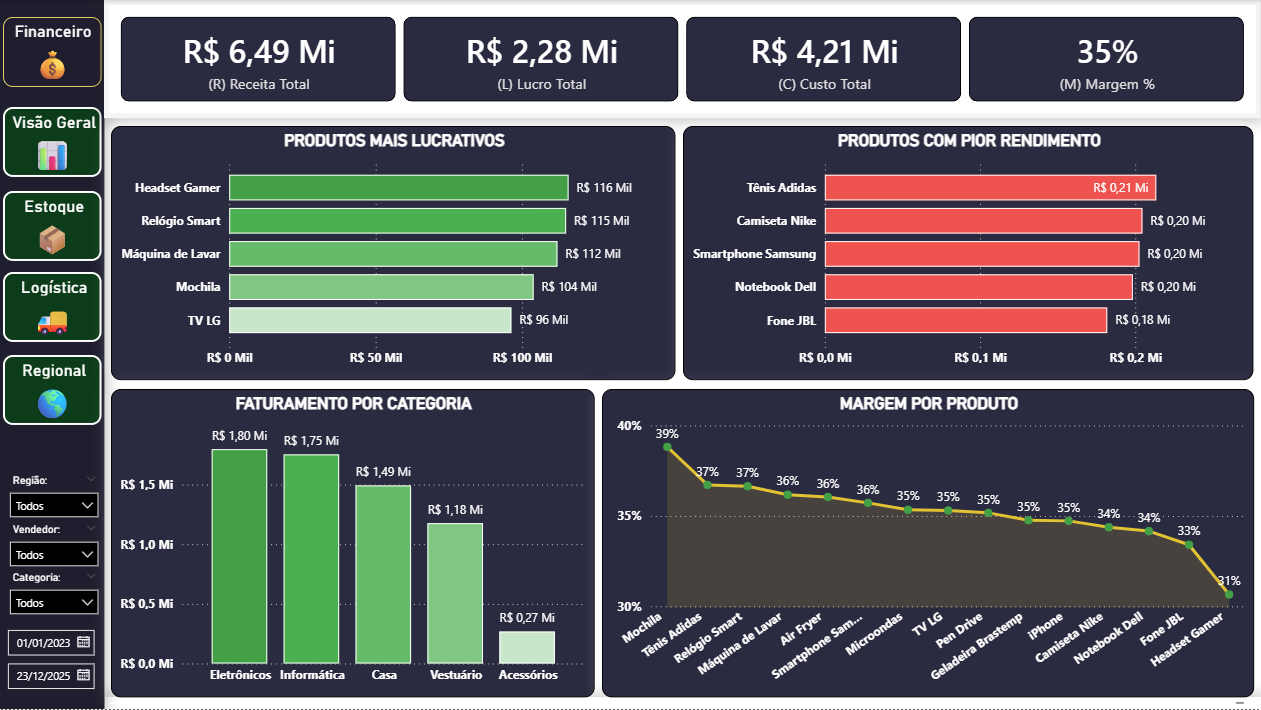

The page's visual inventory and layout, read from the dashboard file:
{"tool":"powerbi","page":{"name":"Financeiro","canvas":[1280,720],"ordinal":1},"visuals":[{"type":"shape","box":[0,0,106,719.8],"z":0},{"type":"actionButton","title":"Financeiro","box":[2.9,17.5,100.2,71],"z":1000},{"type":"actionButton","title":"Visão Geral","box":[2.9,108.9,100.2,71],"z":2000},{"type":"actionButton","title":"Estoque","box":[2.9,193.6,100.2,71],"z":3000},{"type":"actionButton","title":"Logística","box":[2.9,276.2,100.2,71],"z":4000},{"type":"actionButton","title":"Regional","box":[2.9,359.9,100.2,71],"z":5000},{"type":"cardVisual","fields":{"Data":["Base.(R) Receita Total","Base.(L) Lucro Total","Base.(C) Custo Total","Base.(M) Margem %"]},"box":[105.9,0,1174.1,120.2],"z":6000},{"type":"cardVisual","fields":{"Data":["Base.(SE) Status Estoque"]},"box":[106.3,708,1173.7,12],"z":7000},{"type":"barChart","title":"PRODUTOS MAIS LUCRATIVOS","fields":{"Category":["Base.Produto"],"Y":["Base.(L) Lucro Total"]},"box":[113,128.3,573.3,257.6],"z":8000},{"type":"barChart","title":"PRODUTOS COM PIOR RENDIMENTO","fields":{"Category":["Base.Produto"],"Y":["Base.(L) Lucro Total"]},"box":[693.5,128.3,579.4,257.6],"z":9000},{"type":"clusteredColumnChart","title":"FATURAMENTO POR CATEGORIA","fields":{"Category":["Base.Categoria"],"Y":["Base.(R) Receita Total"]},"box":[113,395.1,490.8,312.6],"z":10000},{"type":"lineChart","title":"MARGEM POR PRODUTO","fields":{"Category":["Base.Produto"],"Y":["Base.(M) Margem %"]},"box":[611,395.1,661.9,312.6],"z":11000},{"type":"slicer","fields":{"Values":["Base.Regiao"]},"box":[0,476,110,59],"z":12000},{"type":"slicer","fields":{"Values":["Base.Vendedor"]},"box":[0,526,110,59],"z":13000},{"type":"slicer","fields":{"Values":["Base.Categoria"]},"box":[0,575,110,59],"z":14000},{"type":"slicer","fields":{"Values":["Base.Data"]},"box":[0,634,105,72],"z":15000}]}

Visuals, with their boxes in screenshot pixels (x1, y1, x2, y2), scaled from the page's 1280x720 canvas onto the 1261x710 screenshot:
shape: [0,0,104,709]
"Financeiro" actionButton: [3,17,102,87]
"Visão Geral" actionButton: [3,107,102,177]
"Estoque" actionButton: [3,191,102,261]
"Logística" actionButton: [3,272,102,342]
"Regional" actionButton: [3,355,102,425]
cardVisual - Base.(R) Receita Total x Base.(L) Lucro Total: [104,0,1260,119]
cardVisual - Base.(SE) Status Estoque: [105,698,1260,709]
"PRODUTOS MAIS LUCRATIVOS" barChart: [111,127,676,381]
"PRODUTOS COM PIOR RENDIMENTO" barChart: [683,127,1254,381]
"FATURAMENTO POR CATEGORIA" clusteredColumnChart: [111,390,595,698]
"MARGEM POR PRODUTO" lineChart: [602,390,1254,698]
slicer - Base.Regiao: [0,469,108,528]
slicer - Base.Vendedor: [0,519,108,577]
slicer - Base.Categoria: [0,567,108,625]
slicer - Base.Data: [0,625,103,696]
